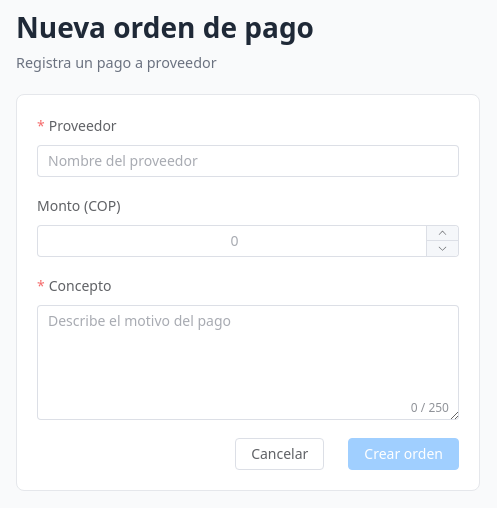
Test: OrderCreateView › habilita crear orden cuando el formulario es válido
The image size is (497, 508).
Type "Proveedor SA" into the field with placeholder "Nombre del proveedor".
click(248, 161); type("Proveedor SA")  # box top-left (48, 146), bottom-right (448, 176)
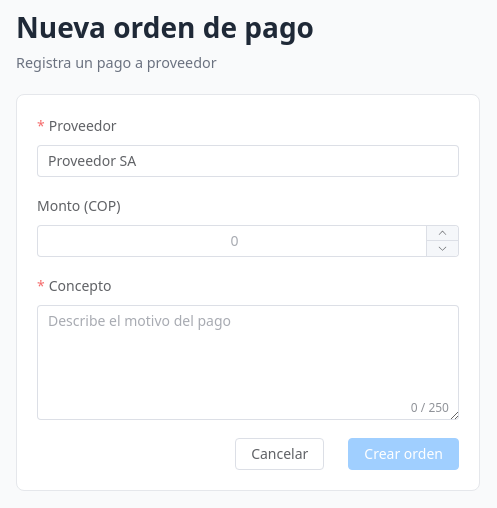
Type "50000" into the number field labelled "Monto (COP)".
click(234, 241); type("50000")  # box top-left (52, 226), bottom-right (417, 256)
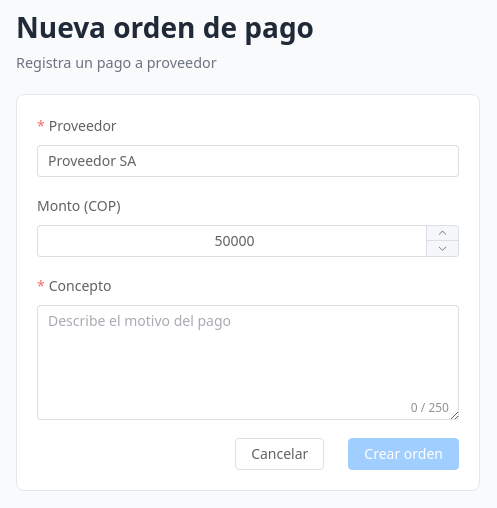
Type "Pago de prueba" into the text box labelled "Concepto".
click(248, 362); type("Pago de prueba")  # box top-left (37, 305), bottom-right (459, 420)
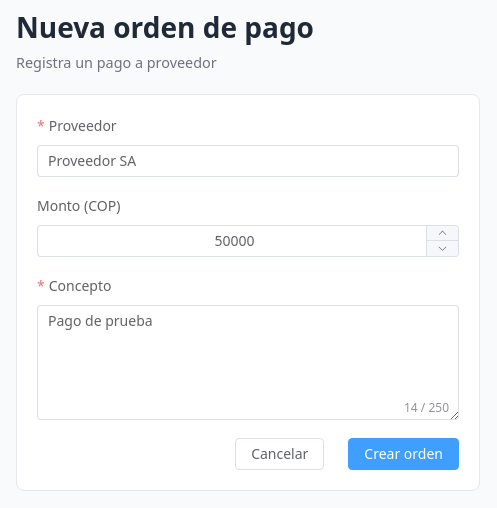
expect the button "Crear orden" is enabled: met, box top-left (348, 438), bottom-right (459, 470)
